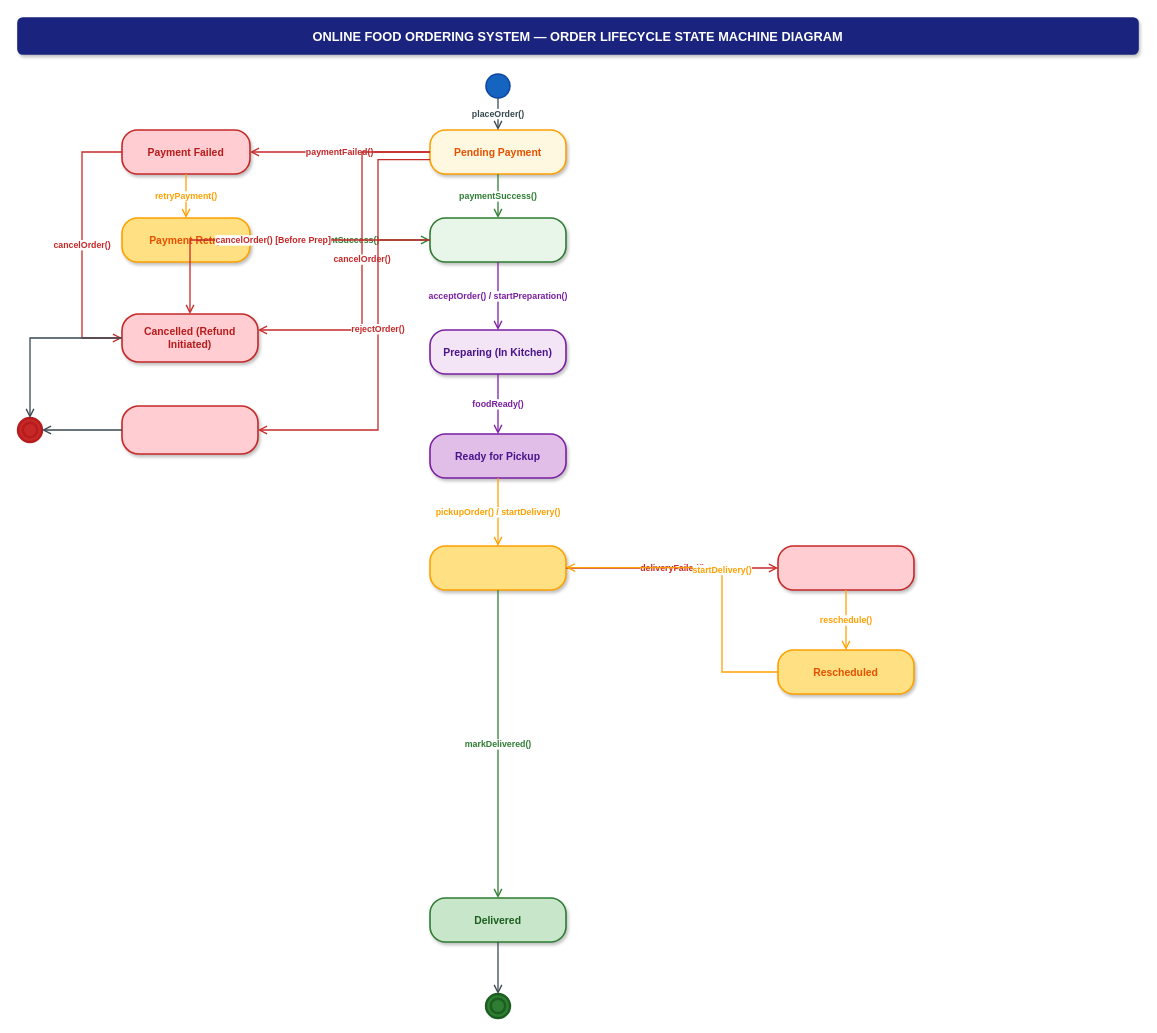
The diagram is 1157 pixels wide and 1033 high, and some of its shapes have lost their labels. Each missing label, with the centre of its shape:
"Confirmed / Placed" belongs at pixel 498 241.
"Delivery Failed" belongs at pixel 846 569.
"Out for Delivery" belongs at pixel 498 569.
"Rejected (Refund Initiated)" belongs at pixel 190 431.
